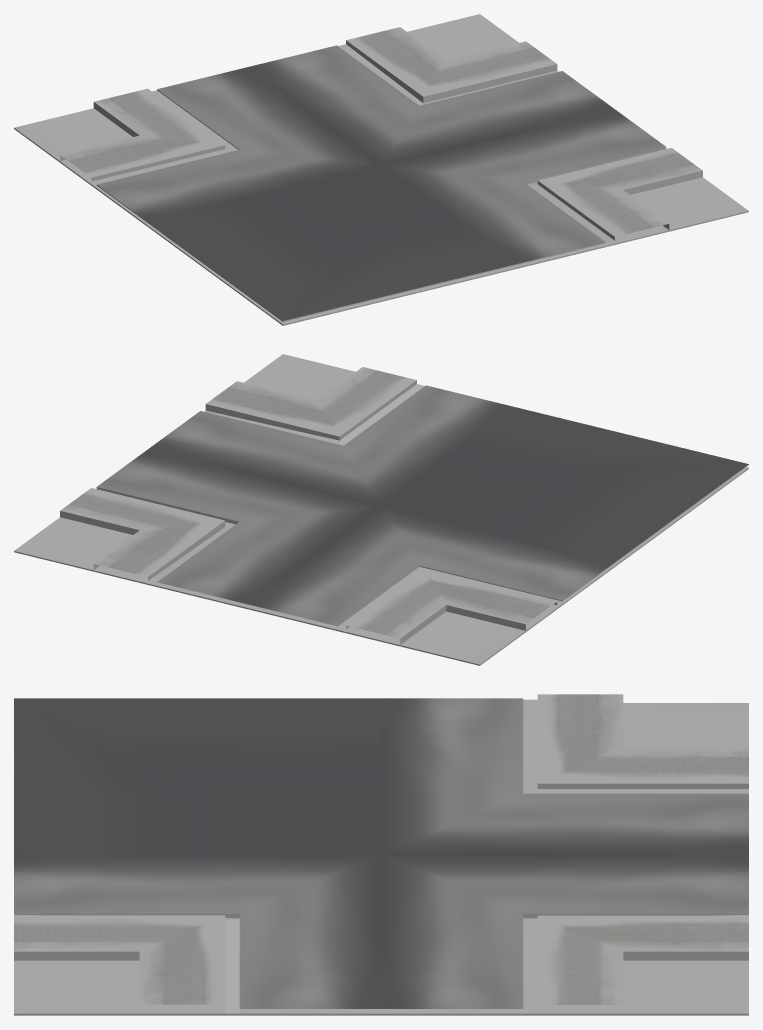
Rendered from Double_Entry_Carpark.fbx.
The picture shows the model from 3 angles, top to bottom: view 1: azimuth 30°, elevation 25°; view 2: azimuth 150°, elevation 25°; view 3: azimuth 270°, elevation 25°; orthographic projection. The views are drawn at different scales.
Parts seen in each view (by area): view 1: Road_10X61, Road_10X29; view 2: Road_10X61, Road_10X29; view 3: Road_10X61, Road_10X29.
Part boxes in pixels (x1=…): Road_10X61: x1=60, y1=27, x2=702, y2=321; Road_10X29: x1=14, y1=14, x2=748, y2=325; Road_10X61: x1=60, y1=367, x2=748, y2=644; Road_10X29: x1=14, y1=354, x2=748, y2=665; Road_10X61: x1=14, y1=694, x2=748, y2=1013; Road_10X29: x1=14, y1=703, x2=748, y2=1015.
Bounding box in the file's own units: 1000 × 16.55 × 1000.
